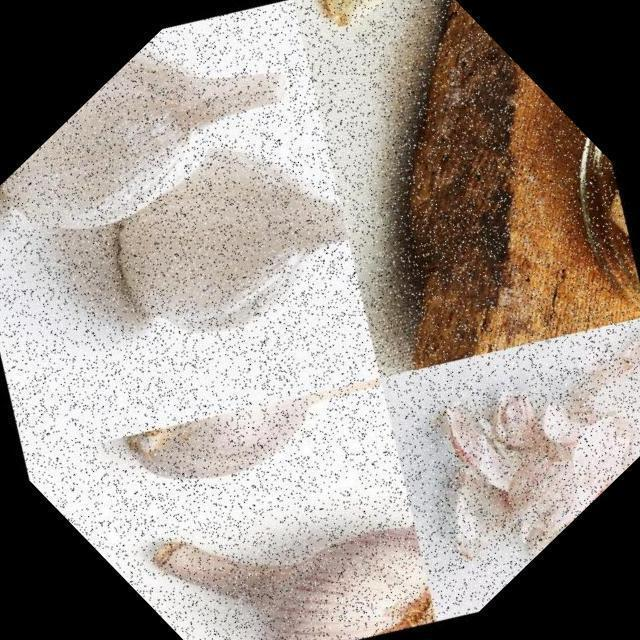garlic: (22, 32, 432, 440), (0, 0, 381, 376), (94, 279, 418, 601), (116, 385, 487, 640), (306, 0, 417, 58)
